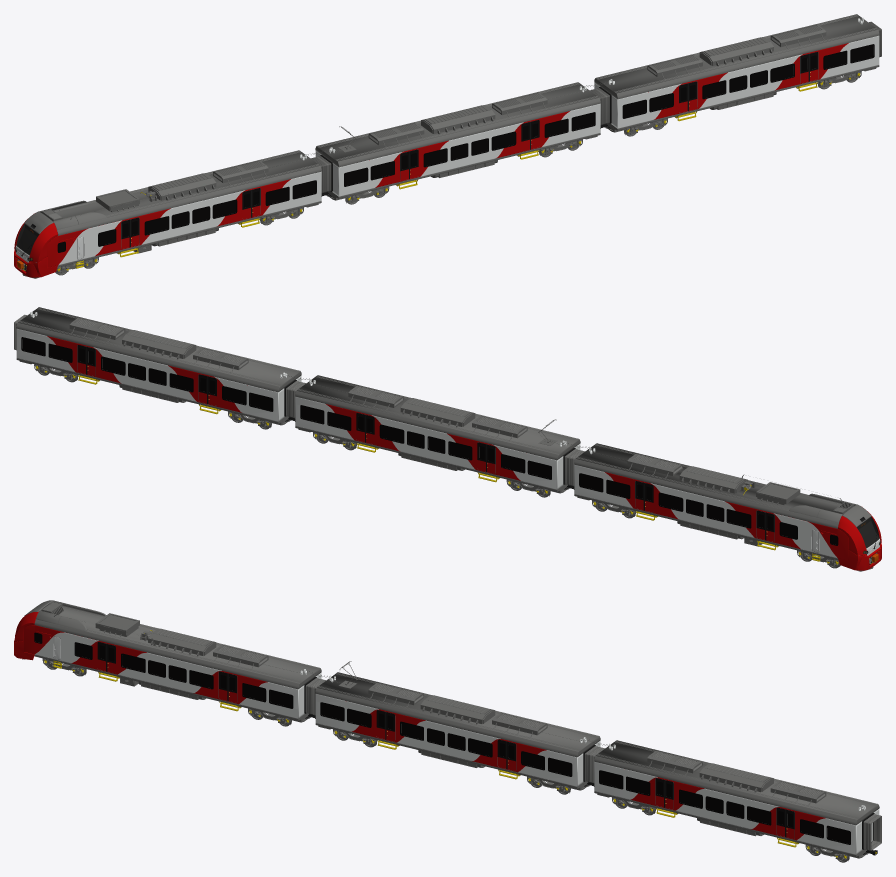
The model's file is es2g_exterior.glb.
3 renders of one model, top to bottom at view 1: azimuth 30°, elevation 25°; view 2: azimuth 150°, elevation 25°; view 3: azimuth 330°, elevation 25°, orthographic.
Visible parts, largest first — view 1: pered_Material #56_0, opti_Material #705_0; view 2: pered_Material #56_0, opti_Material #705_0; view 3: pered_Material #56_0, opti_Material #705_0.
Boxes of the visible parts, <box> form: pered_Material #56_0: <box>14,14,881,278</box>; opti_Material #705_0: <box>15,45,873,260</box>; pered_Material #56_0: <box>14,307,881,571</box>; opti_Material #705_0: <box>22,338,880,553</box>; pered_Material #56_0: <box>14,600,881,862</box>; opti_Material #705_0: <box>35,633,849,843</box>.
Bounding box in the file's own units: 58.93 × 4.7 × 2.9.
Materials: 6 (6 with a texture image).
